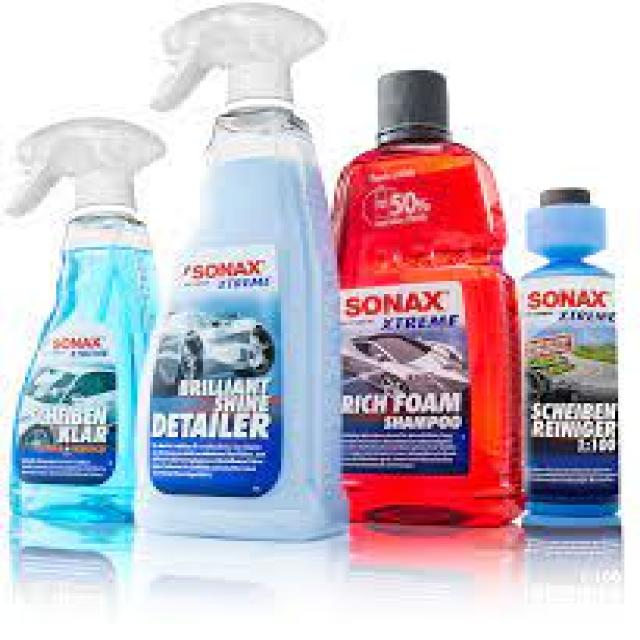winwinshield_washer: (137, 0, 334, 528), (343, 66, 514, 530), (0, 120, 134, 529), (515, 184, 625, 523)
